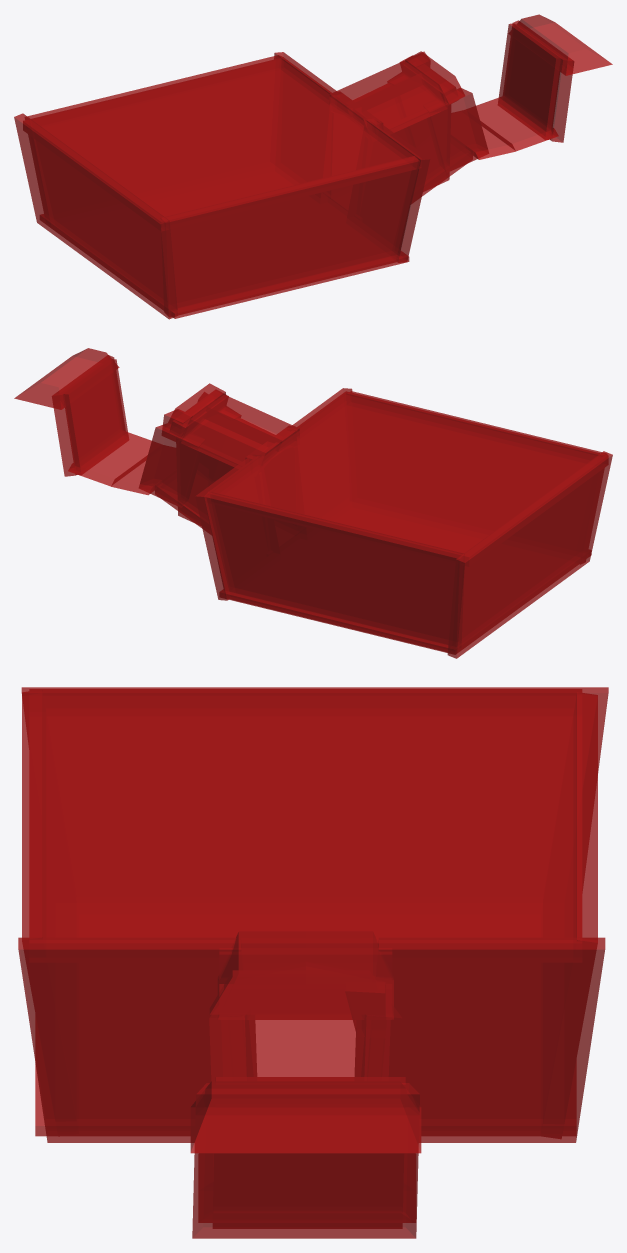
The model's file is SM_Env_Trench_Deep_Bunker_01_Collision.fbx.
3 views of the same model, one above another, from view 1: azimuth 30°, elevation 25°; view 2: azimuth 150°, elevation 25°; view 3: azimuth 270°, elevation 25° (orthographic). The views are drawn at different scales.
Visible parts, largest first — view 1: SM_Env_Trench_Deep_Bunker_01_Collision; view 2: SM_Env_Trench_Deep_Bunker_01_Collision; view 3: SM_Env_Trench_Deep_Bunker_01_Collision.
Part boxes in pixels (bbox=[...]): SM_Env_Trench_Deep_Bunker_01_Collision: bbox=[14, 14, 612, 319]; SM_Env_Trench_Deep_Bunker_01_Collision: bbox=[14, 348, 612, 658]; SM_Env_Trench_Deep_Bunker_01_Collision: bbox=[18, 687, 608, 1238].
Size of the model in its own units: 1556 by 390 by 804.
